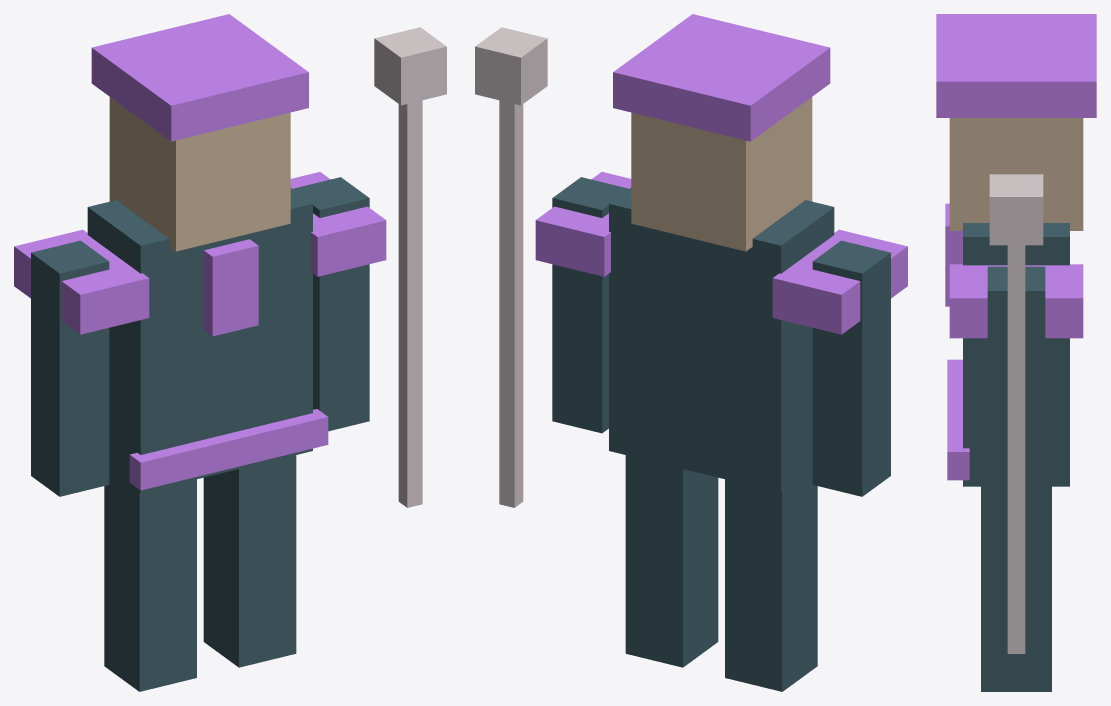
File: 17_lyric_wayfare_engineer_near_mycelial.glb
3 renders of one model, left to right at view 1: azimuth 30°, elevation 25°; view 2: azimuth 150°, elevation 25°; view 3: azimuth 270°, elevation 25°, orthographic.
Parts seen in each view (by area): view 1: Lyric Wayfare, Engineer near Mycelial; view 2: Lyric Wayfare, Engineer near Mycelial; view 3: Lyric Wayfare, Engineer near Mycelial.
Boxes of the visible parts, x1,y1,x2,y2 form: Lyric Wayfare, Engineer near Mycelial: [14, 14, 446, 691]; Lyric Wayfare, Engineer near Mycelial: [475, 14, 907, 691]; Lyric Wayfare, Engineer near Mycelial: [936, 14, 1096, 691].
Size of the model in its own units: 1.02 by 1.5 by 0.3608.
